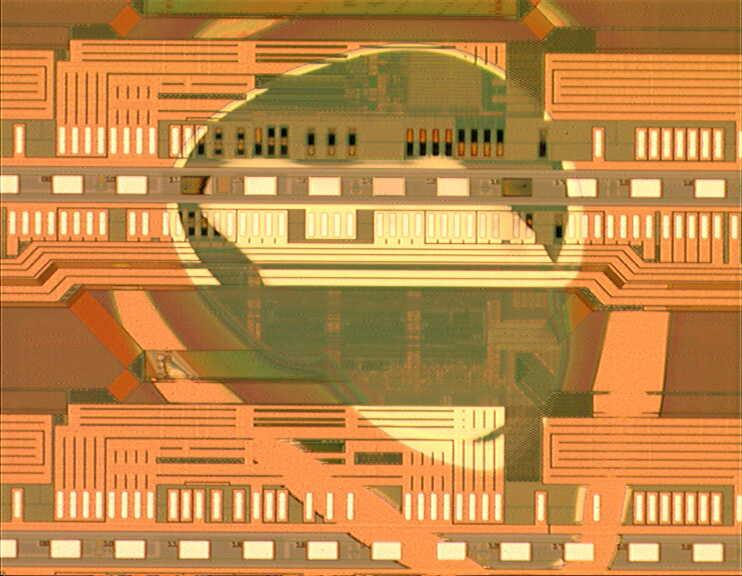BLOCK ETCH: (2, 1, 683, 576)
